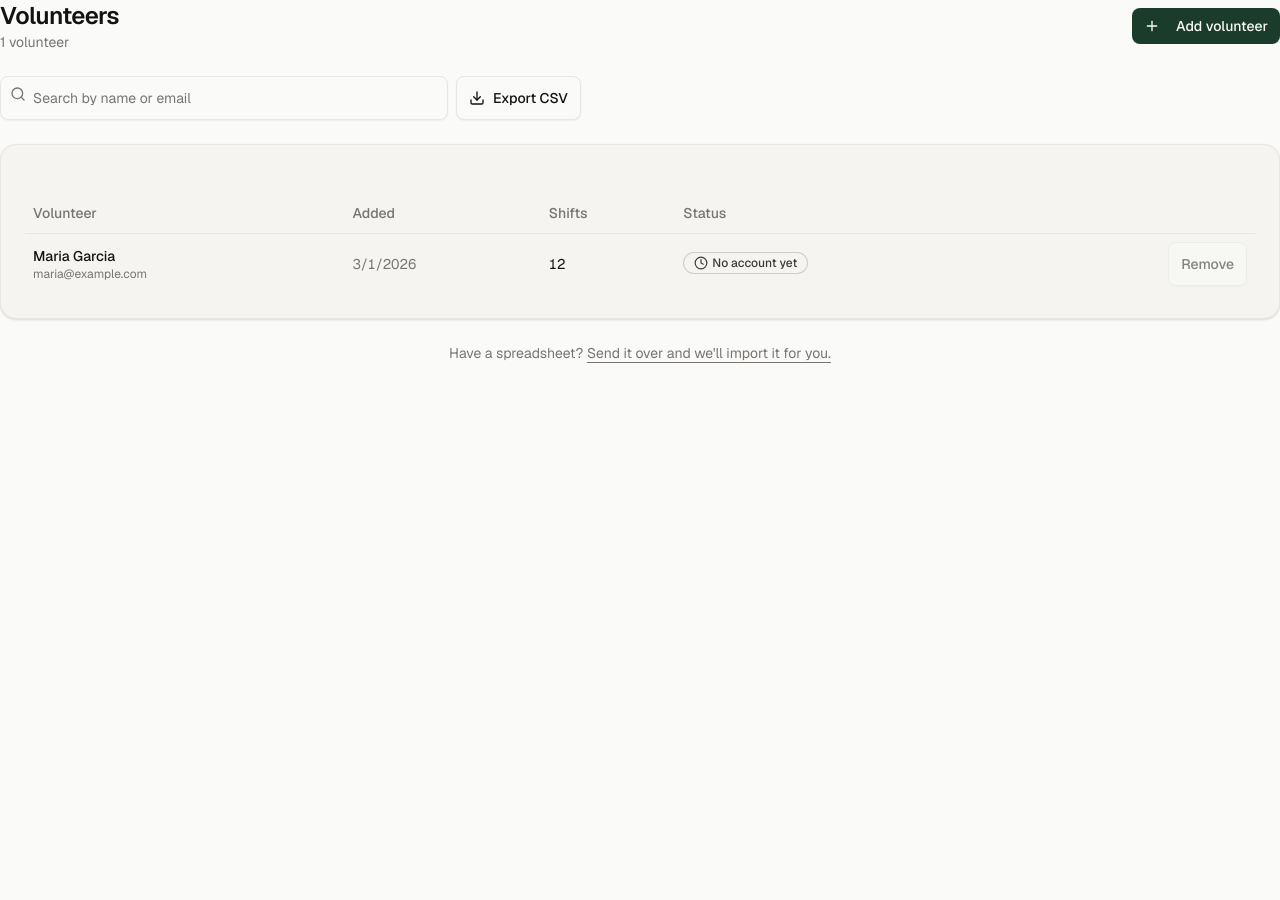
Test: VolunteersPage detail dialog (T27) › disables the dialog’s Remove while that volunteer’s removal is in flight
Step 1. Click the button "Maria Garcia" → click(74, 256), box left=33, top=246, right=115, bottom=266
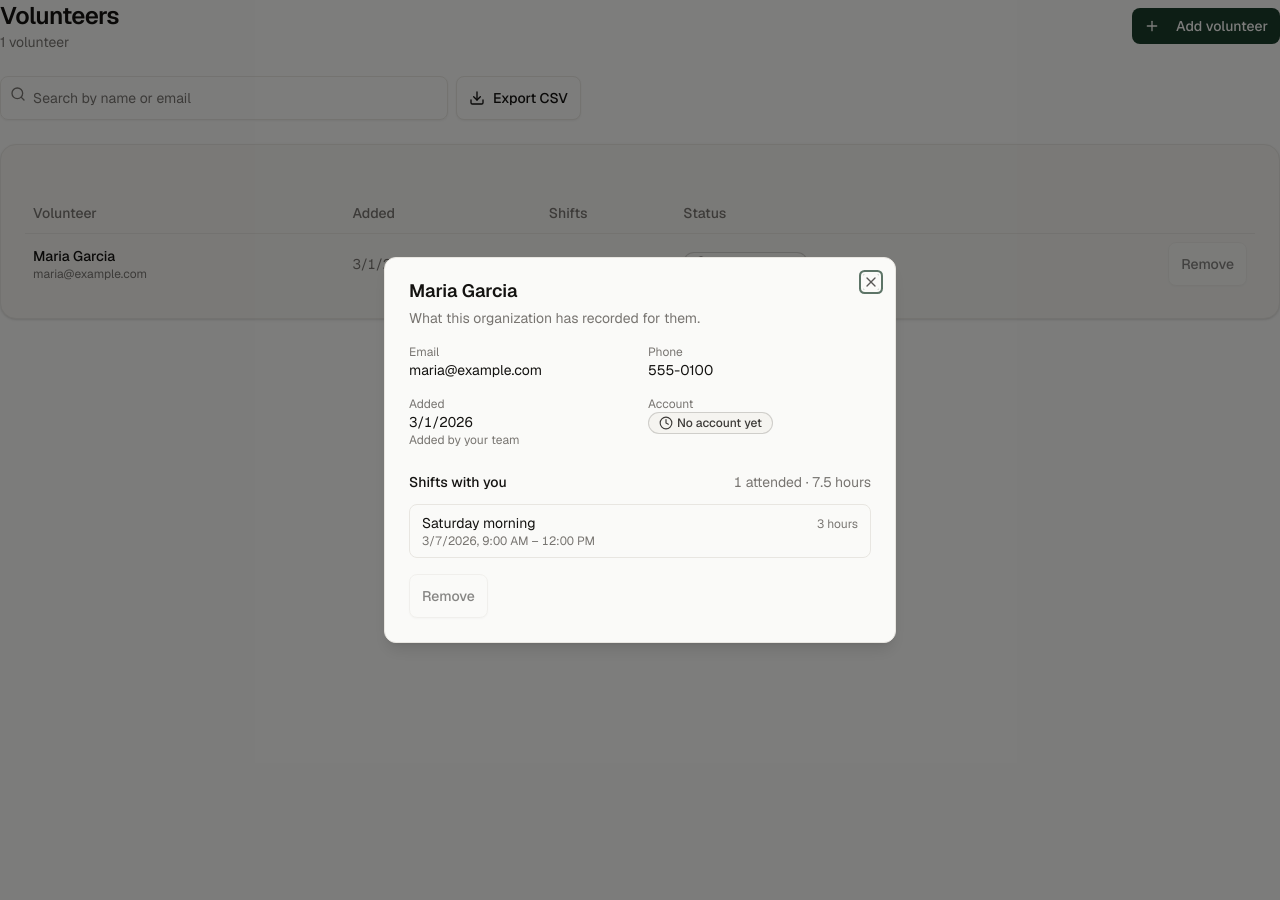
Check: the button with aria-label "Remove Maria Garcia from your roster" is disabled, box left=409, top=574, right=488, bottom=618
